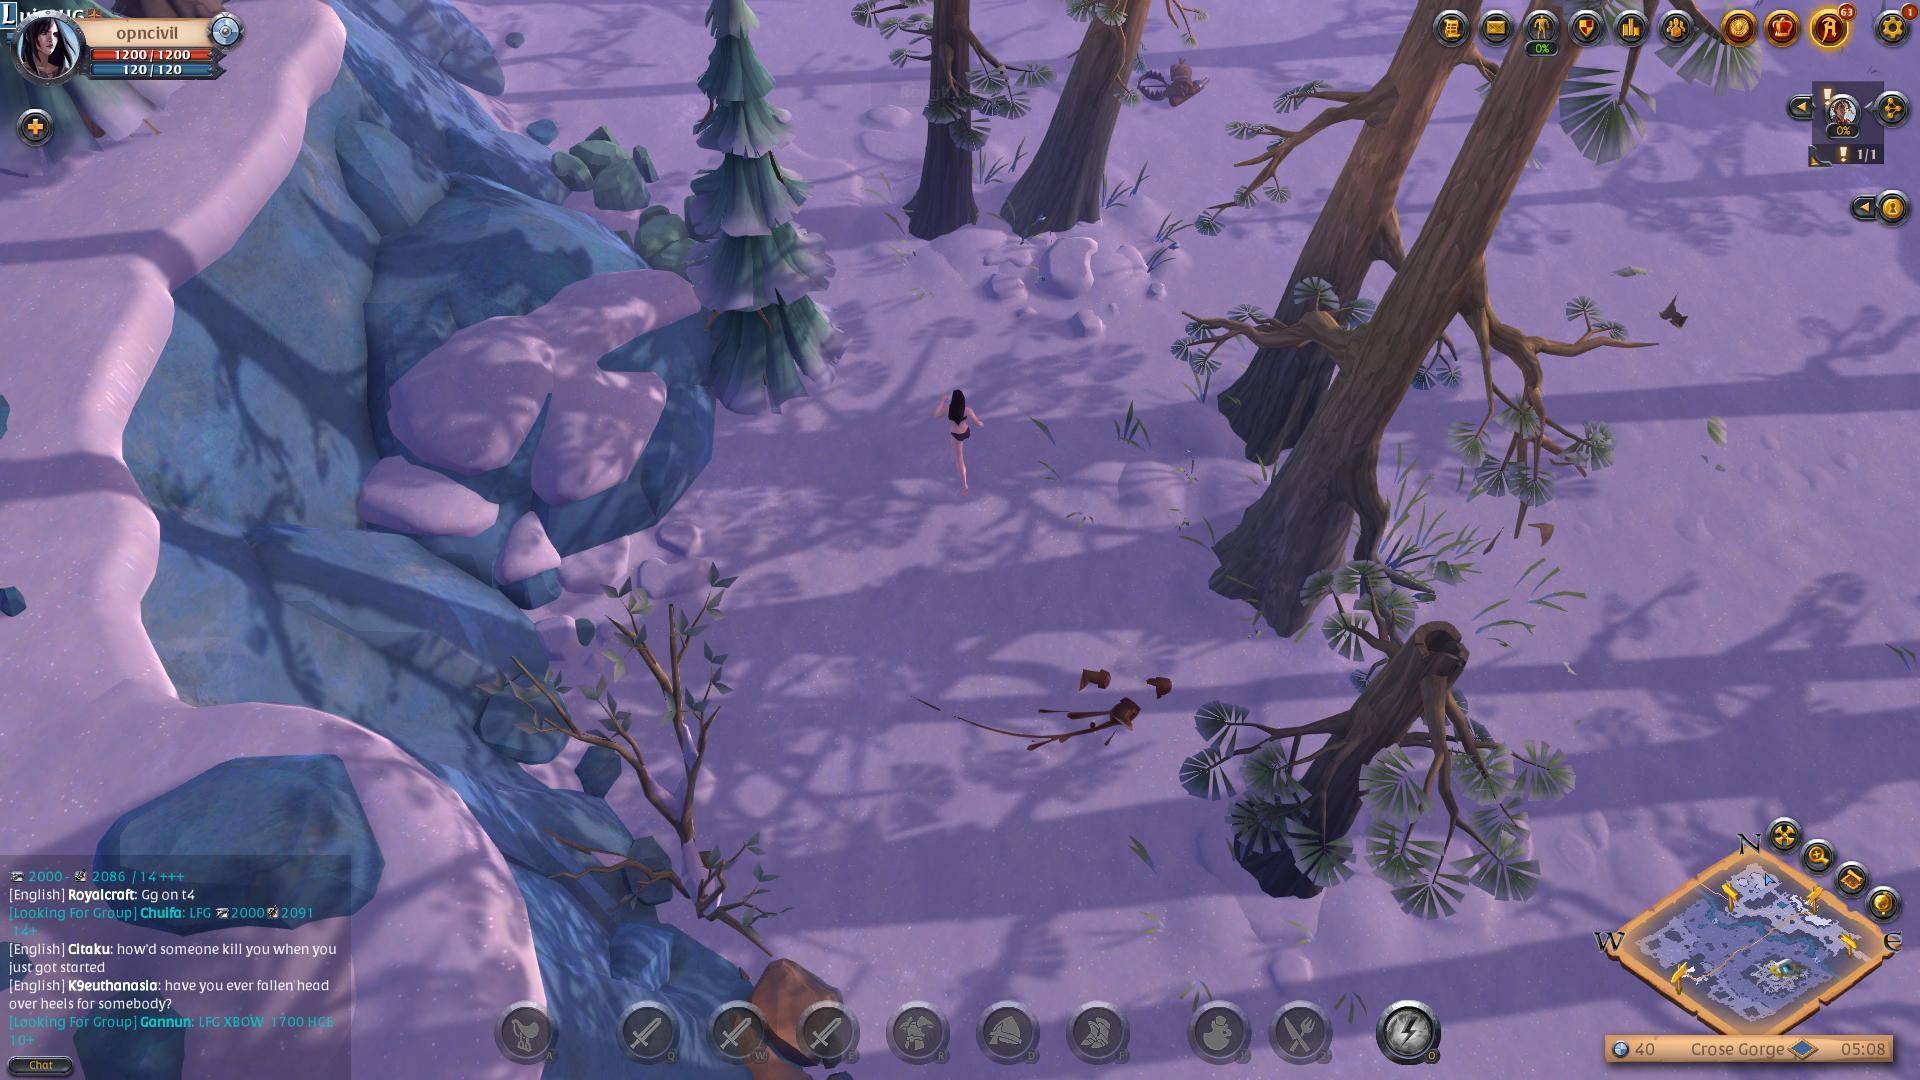sandstone: (553, 116, 655, 219), (622, 203, 702, 276)
